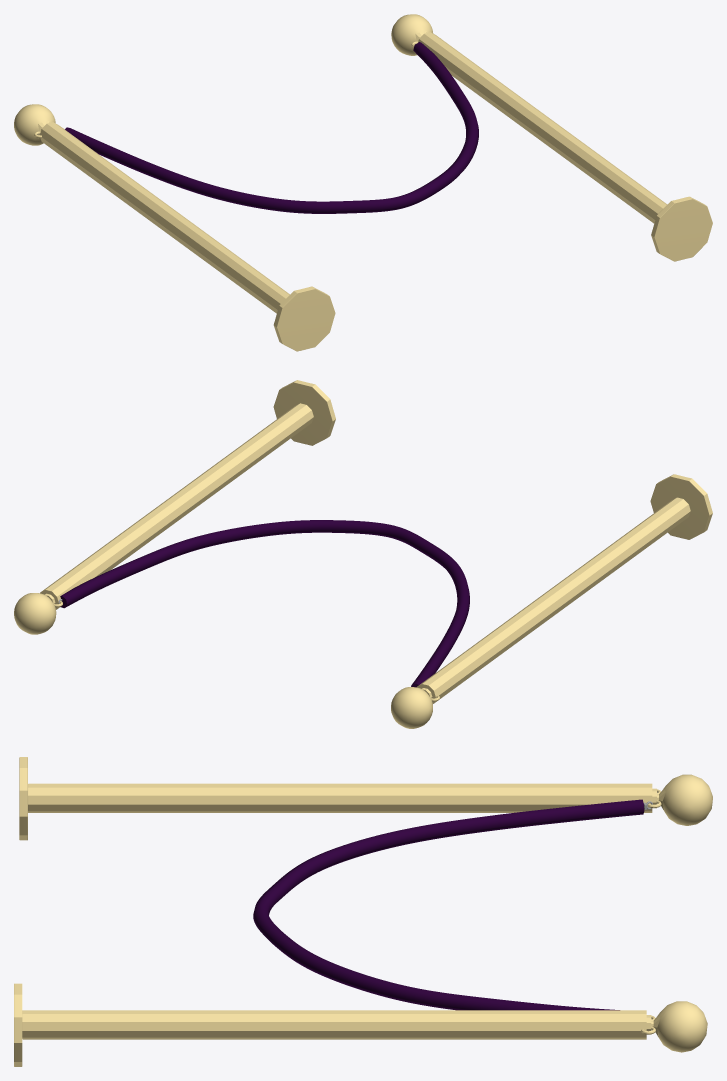
File: ribbonfixed.fbx
3 views of the same model, one above another, from view 1: azimuth 30°, elevation 25°; view 2: azimuth 150°, elevation 25°; view 3: azimuth 270°, elevation 25° (orthographic). The views are drawn at different scales.
Visible parts, largest first — view 1: pTorus9, pTorus10, sweep1; view 2: pTorus9, pTorus10, sweep1; view 3: pTorus10, pTorus9, sweep1.
Part boxes in pixels (bbox=[...]): pTorus9: bbox=[14, 104, 335, 351]; pTorus10: bbox=[391, 14, 712, 261]; sweep1: bbox=[65, 42, 478, 213]; pTorus9: bbox=[391, 474, 712, 728]; pTorus10: bbox=[14, 380, 335, 634]; sweep1: bbox=[60, 520, 469, 687]; pTorus10: bbox=[14, 983, 707, 1066]; pTorus9: bbox=[19, 757, 712, 840]; sweep1: bbox=[253, 799, 644, 1010].
Size of the model in its own units: 4.72 by 0.6087 by 5.33.
